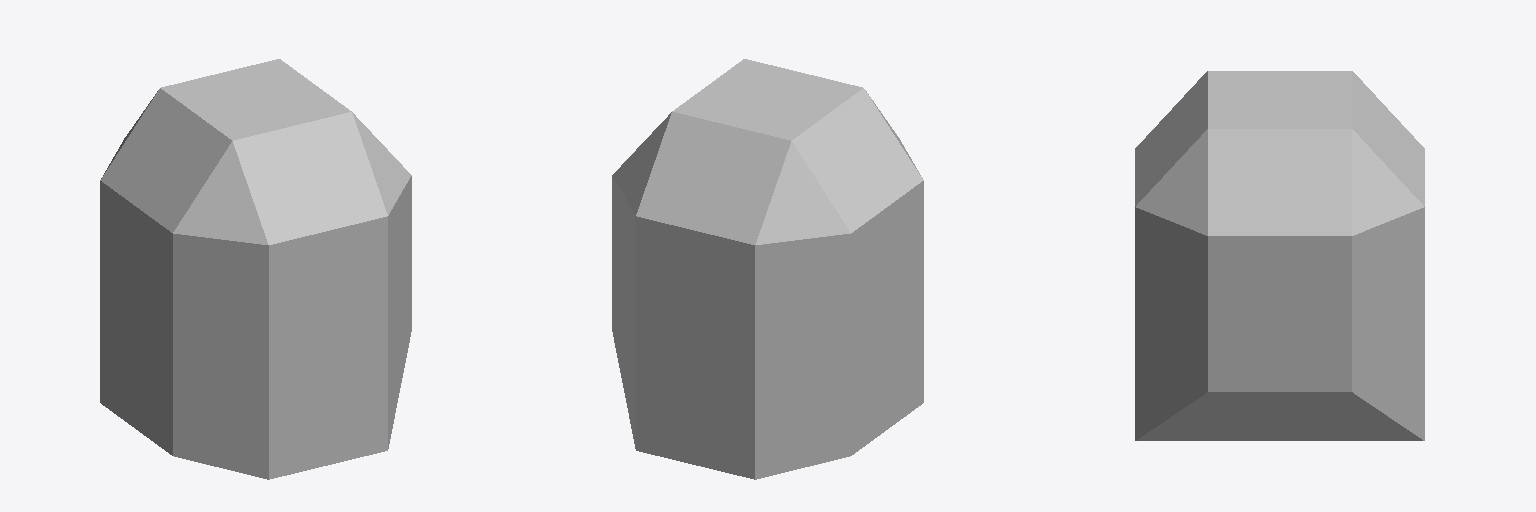
The model's file is MeleeHead.obj.
3 views of the same model, side by side, from view 1: azimuth 30°, elevation 25°; view 2: azimuth 150°, elevation 25°; view 3: azimuth 270°, elevation 25° (orthographic).
Parts seen in each view (by area): view 1: Head; view 2: Head; view 3: Head.
Boxes of the visible parts, x1=… form: Head: x1=100, y1=59, x2=411, y2=479; Head: x1=612, y1=59, x2=923, y2=479; Head: x1=1135, y1=71, x2=1424, y2=440.
Size of the model in its own units: 0.25 by 0.3125 by 0.2625.